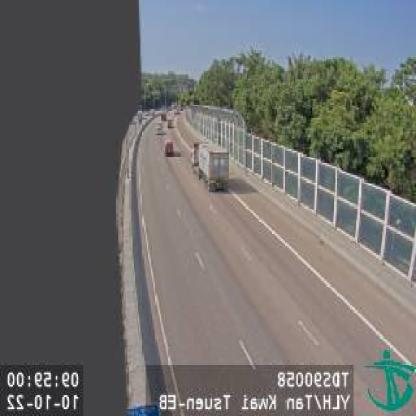Car: (162, 140, 173, 154)
Truck: (192, 138, 228, 192)
